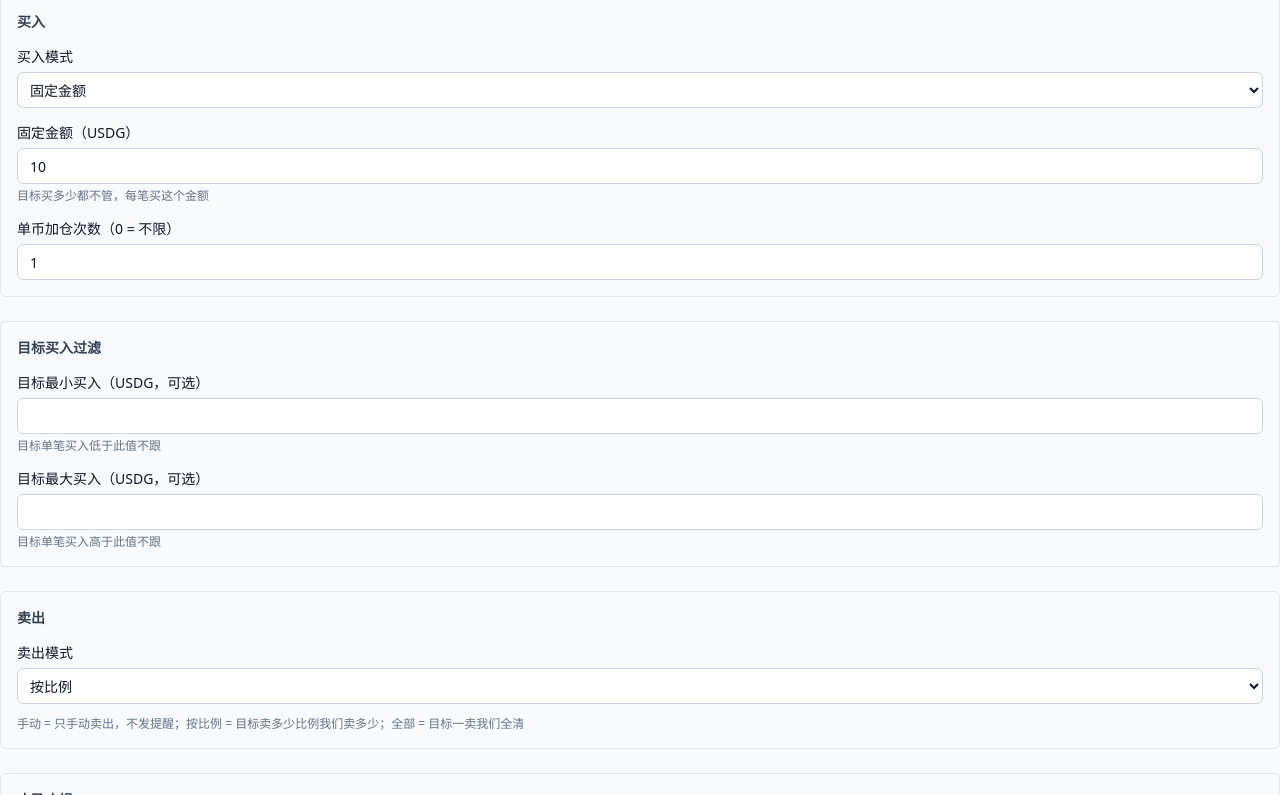
clears the stale size_value error when switching modes
The width and height of the screenshot is (1280, 795).
Clear the field labelled "固定金额（USDG）" at (640, 166), box [17, 148, 1263, 184]
(page scrolled)
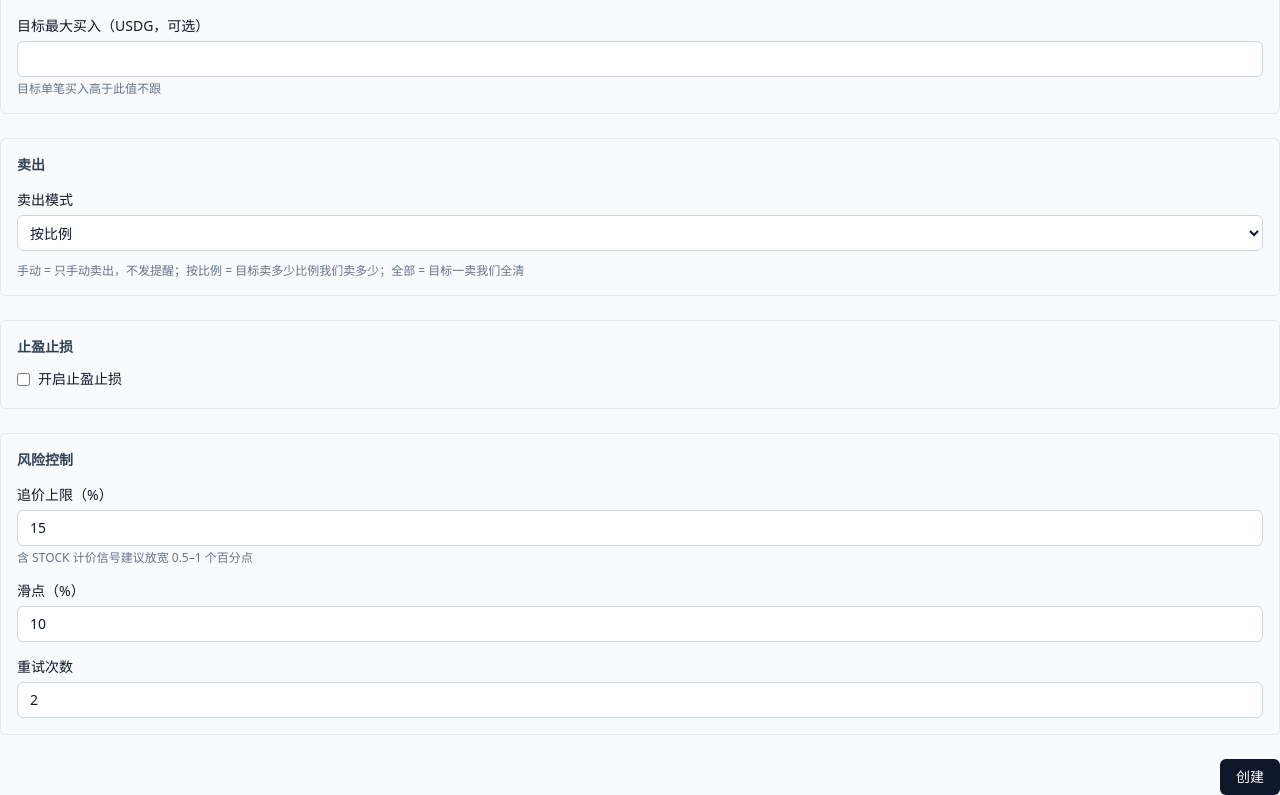
Click the button "创建" at (1250, 776), box [1220, 758, 1279, 794]
(page scrolled)
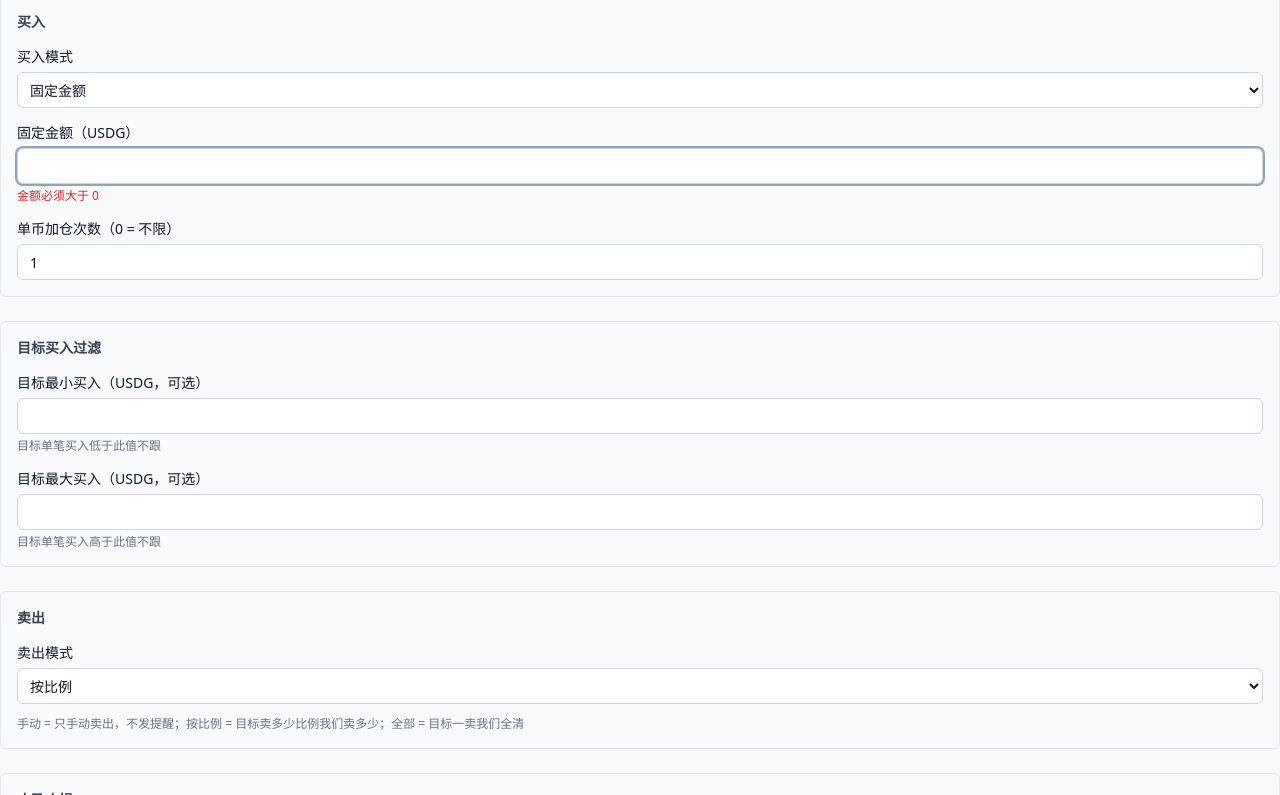
Check: the text "金额必须大于 0" is shown, box [17, 187, 99, 204]
Select "按比例" in the dropdown labelled "买入模式" at (640, 90), box [17, 72, 1263, 108]
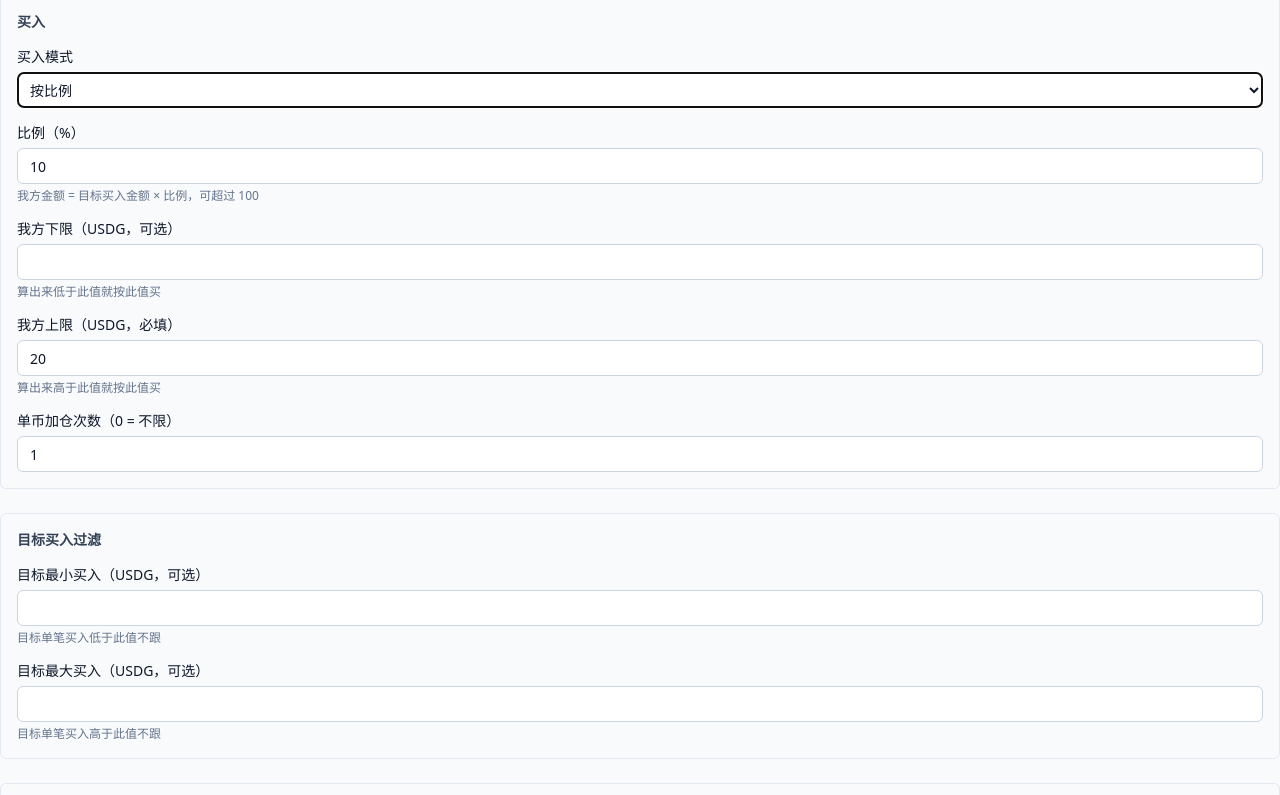
Check: the text "金额必须大于 0" is gone
